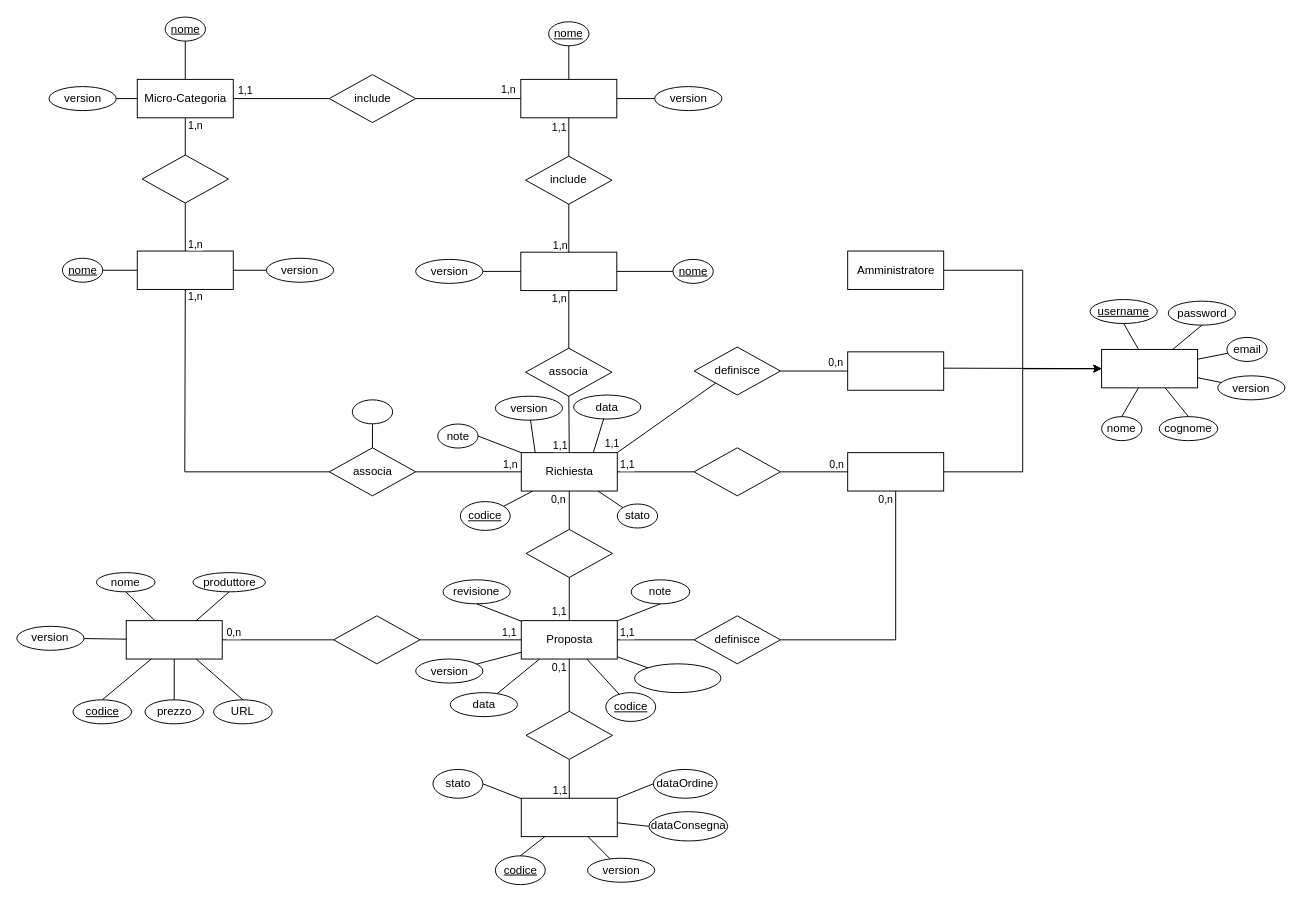
The diagram is 1302 pixels wide and 901 high, and some of its shapes have lost their labels. The shapes that lost their labels are listed below. From the top down, each one's centre as x and y in pixels, then its label:
point (568, 98): Sotto-Categoria
point (184, 178): contiene
point (184, 269): Caratteristica
point (568, 271): Categoria
point (895, 370): Ordinante
point (1149, 368): Utente
point (372, 411): valore
point (736, 471): assegna
point (895, 471): Tecnico
point (568, 552): segue
point (173, 639): Prodotto
point (376, 639): propone
point (677, 678): rev_motivazione
point (568, 734): diventa
point (568, 817): Ordine
